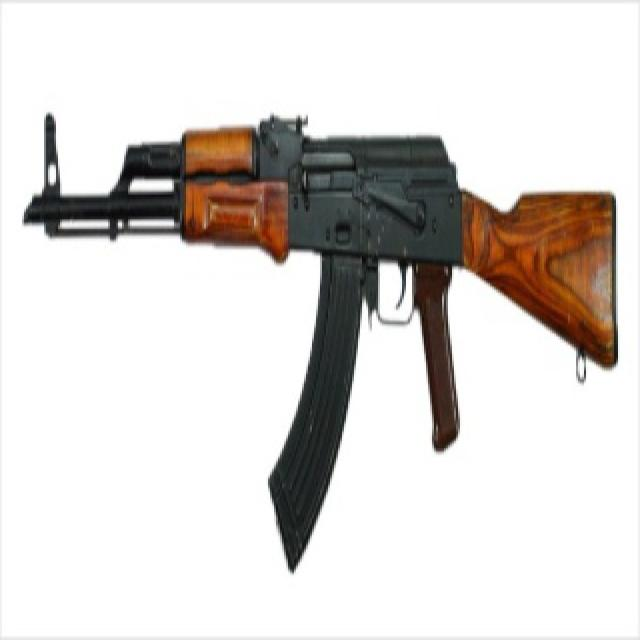rifle: (21, 98, 633, 574)
